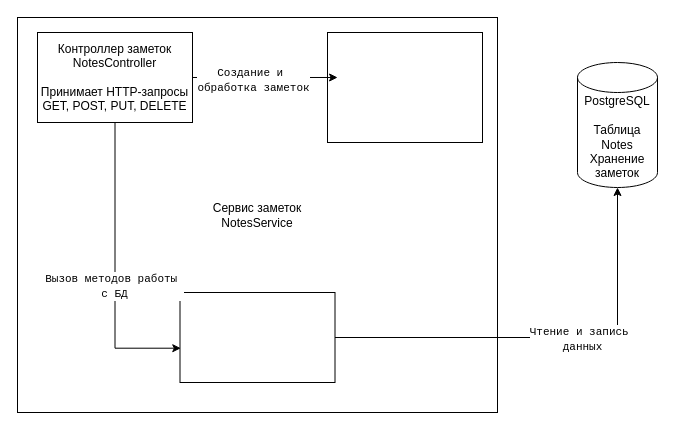
Image size: 675x430. Some labels were removed from this diagram. The centre of each missing label's shape, as x and y in pixels:
"Контекст базы данных NotesDbContext Связь приложения с PostgreSQL" goes at (257,337).
"Модель заметки Note Id Title Content CreatedAt" goes at (404,87).
